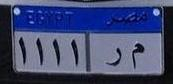1: (50, 34, 64, 69), (68, 37, 82, 69), (32, 37, 46, 68), (16, 36, 29, 66)
meem: (129, 40, 146, 73)
raa: (103, 44, 123, 69)
